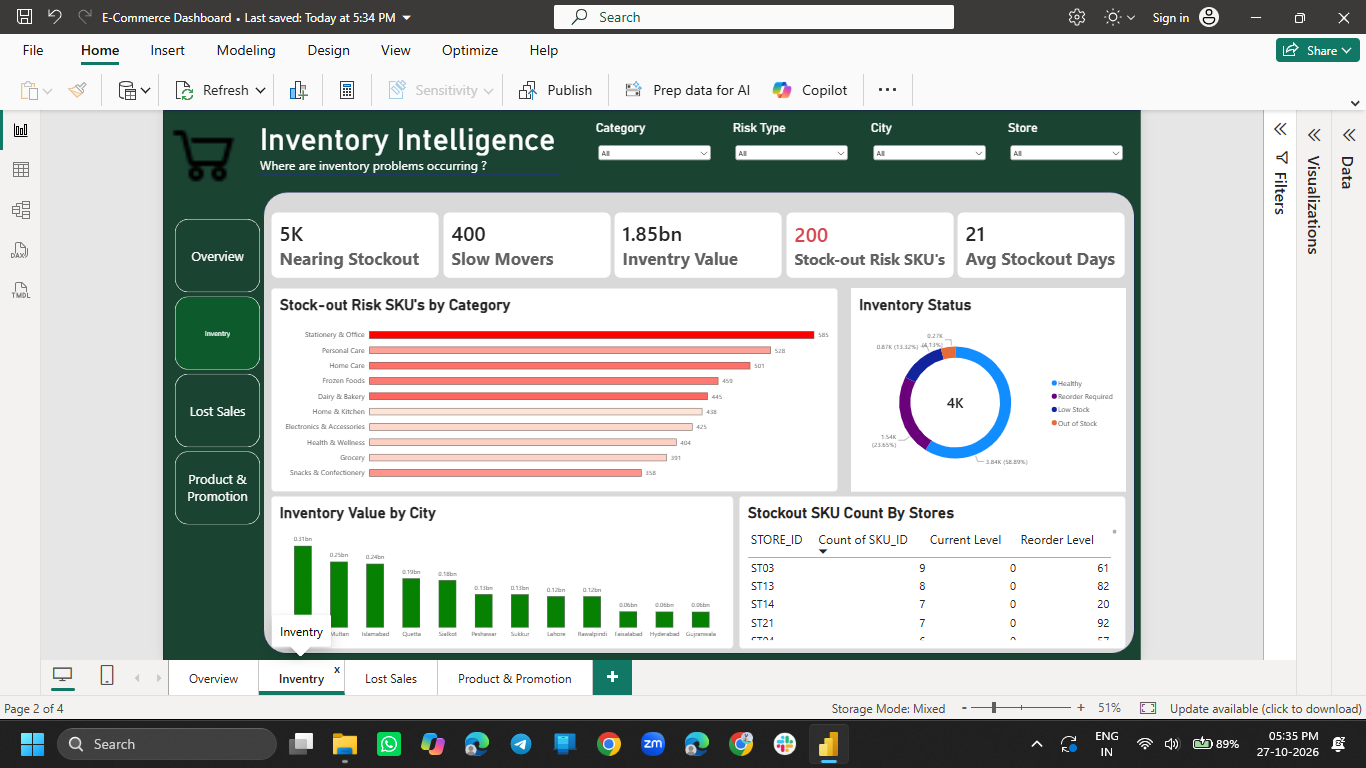

The page's visual inventory and layout, read from the dashboard file:
{"tool":"powerbi","page":{"name":"Inventry","canvas":[1920,1080],"ordinal":1},"visuals":[{"type":"image","box":[0,0,1920,1079.7],"z":0,"group":"g1"},{"type":"cardVisual","title":"Total Sales","fields":{"Data":["INVENTORY_SNAPSHOT.SKU's At Risk"]},"box":[212.5,200,330,130],"z":1000,"group":"g1"},{"type":"cardVisual","title":"Total Customers","fields":{"Data":["INVENTORY_SNAPSHOT.Inventry Value"]},"box":[886.2,200,330,130],"z":2000,"group":"g1"},{"type":"cardVisual","fields":{"Data":["SKU_INVENTORY_FLAGS.Slow Movers"]},"box":[549.4,200,330,130],"z":3000,"group":"g1"},{"type":"cardVisual","fields":{"Data":["SKU_INVENTORY_FLAGS.Stockout Risk SKU's"]},"box":[1223.1,200,330,130],"z":4000,"group":"g1"},{"type":"cardVisual","title":"Total Units Sold","fields":{"Data":["SKU_INVENTORY_FLAGS.Avg Stockout Days"]},"box":[1560,200,330,130],"z":5000,"group":"g1"},{"type":"barChart","title":"Stock-out Risk SKU''s by Category","fields":{"Category":["DimSKU.CATEGORY"],"Y":["INVENTORY_SNAPSHOT.SKU's At Risk"]},"box":[212.5,350,1112.5,400],"z":6000,"group":"g1"},{"type":"donutChart","title":"Inventory Status","fields":{"Category":["INVENTORY_SNAPSHOT.Inventory Status"],"Y":["Count(INVENTORY_SNAPSHOT.SKU_ID)"]},"box":[1350,350,540,400],"z":7000,"group":"g1"},{"type":"shape","title":"Inventory Intelligence","box":[190,22.5,590,107.5],"z":9000,"group":"g1"},{"type":"slicer","title":"Category","fields":{"Values":["DimSKU.CATEGORY"]},"box":[850,22.5,230,107.5],"z":10000,"group":"g1"},{"type":"slicer","title":"Risk Type","fields":{"Values":["SKU_INVENTORY_FLAGS.FLAG"]},"box":[1120,22.5,230,107.5],"z":11000,"group":"g1"},{"type":"slicer","title":"City","fields":{"Values":["STORE_MASTER.CITY"]},"box":[1390,22.5,230,107.5],"z":12000,"group":"g1"},{"type":"slicer","title":"Store","fields":{"Values":["STORE_MASTER.STORE_TYPE"]},"box":[1660,22.5,230,107.5],"z":13000,"group":"g1"},{"type":"image","box":[0,2.5,160,165],"z":14000,"group":"g1"},{"type":"pageNavigator","box":[23.6,214,167.5,602.5],"z":15000,"group":"g1"},{"type":"columnChart","title":"Inventory Value by City","fields":{"Category":["STORE_MASTER.CITY"],"Y":["INVENTORY_SNAPSHOT.Inventry Value"]},"box":[212.5,757.5,907.5,300],"z":16000,"group":"g1"},{"type":"tableEx","title":"Stockout SKU Count By Stores","fields":{"Values":["INVENTORY_SNAPSHOT.STORE_ID","INVENTORY_SNAPSHOT.SKU_ID","Sum(INVENTORY_SNAPSHOT.STOCK_ON_HAND)","INVENTORY_SNAPSHOT.REORDER_POINT"]},"box":[1130.8,757.5,759.2,300],"z":17001,"group":"g1"},{"type":"group","id":"g1","title":"Group 1","box":[0,0,1920,1079.7],"z":17002}]}

Visuals, with their boxes on the page's 1920x1080 design canvas (x1, y1, x2, y2). These are canvas units, not pixel positions in the 1366x768 screenshot, which may show the page scaled, cropped or inside an application window:
image: [left=0, top=0, right=1920, bottom=1080]
"Total Sales" cardVisual: [left=212, top=200, right=542, bottom=330]
"Total Customers" cardVisual: [left=886, top=200, right=1216, bottom=330]
cardVisual - SKU_INVENTORY_FLAGS.Slow Movers: [left=549, top=200, right=879, bottom=330]
cardVisual - SKU_INVENTORY_FLAGS.Stockout Risk SKU's: [left=1223, top=200, right=1553, bottom=330]
"Total Units Sold" cardVisual: [left=1560, top=200, right=1890, bottom=330]
"Stock-out Risk SKU''s by Category" barChart: [left=212, top=350, right=1325, bottom=750]
"Inventory Status" donutChart: [left=1350, top=350, right=1890, bottom=750]
"Inventory Intelligence" shape: [left=190, top=22, right=780, bottom=130]
"Category" slicer: [left=850, top=22, right=1080, bottom=130]
"Risk Type" slicer: [left=1120, top=22, right=1350, bottom=130]
"City" slicer: [left=1390, top=22, right=1620, bottom=130]
"Store" slicer: [left=1660, top=22, right=1890, bottom=130]
image: [left=0, top=2, right=160, bottom=168]
pageNavigator: [left=24, top=214, right=191, bottom=816]
"Inventory Value by City" columnChart: [left=212, top=758, right=1120, bottom=1058]
"Stockout SKU Count By Stores" tableEx: [left=1131, top=758, right=1890, bottom=1058]
"Group 1" group: [left=0, top=0, right=1920, bottom=1080]
